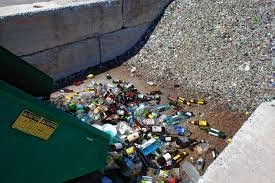glass: (152, 147, 182, 165), (122, 128, 149, 144), (199, 125, 224, 139), (170, 149, 190, 166), (141, 124, 168, 134), (188, 116, 210, 127), (110, 107, 133, 116), (175, 94, 191, 106), (176, 137, 198, 145), (189, 97, 208, 106), (159, 135, 177, 142), (111, 78, 127, 85), (148, 88, 163, 95)
